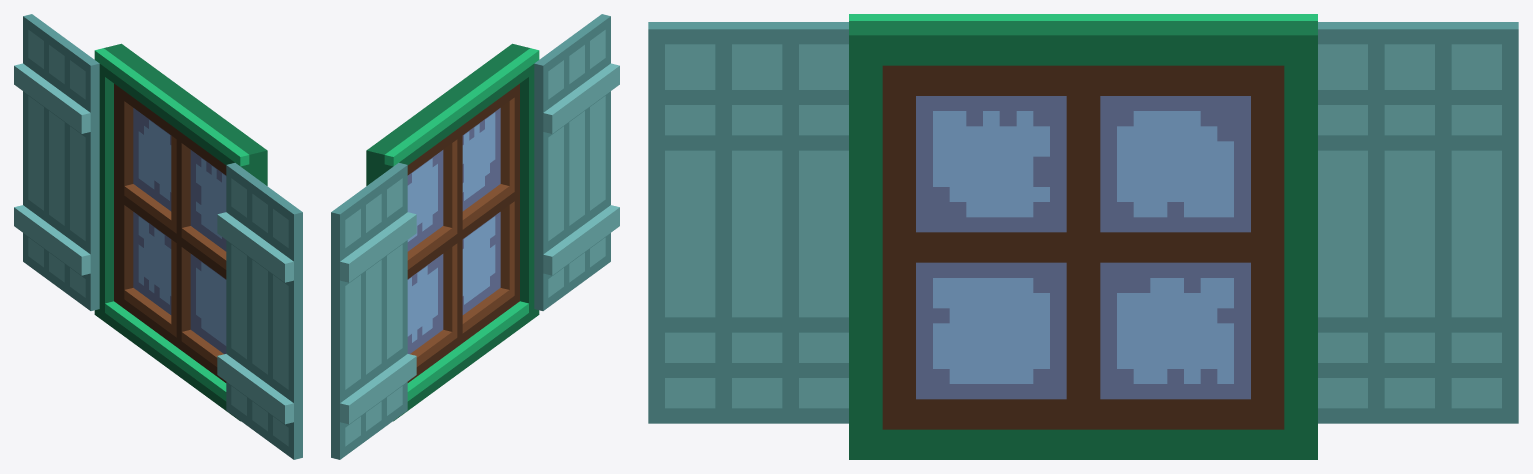
File: window_textured_small_blue_green.obj
3 views of the same model, side by side, from view 1: azimuth 30°, elevation 25°; view 2: azimuth 150°, elevation 25°; view 3: azimuth 270°, elevation 25° (orthographic). The views are drawn at different scales.
Size of the model in its own units: 0.5 by 2.8 by 5.2.
Materials: 1 (1 with a texture image).
